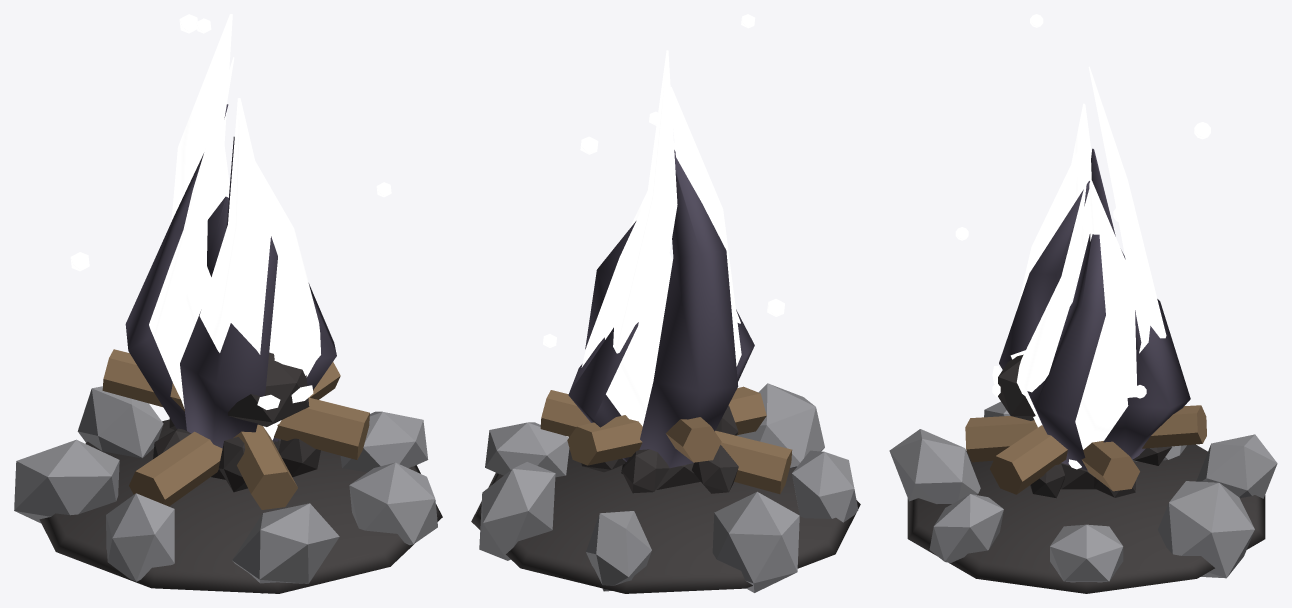
Rendered from ember-camp-fire.glb.
The picture shows the model from 3 angles, left to right: view 1: azimuth 30°, elevation 25°; view 2: azimuth 150°, elevation 25°; view 3: azimuth 270°, elevation 25°; orthographic projection. The views are drawn at different scales.
Parts seen in each view (by area): view 1: ember_camp_fire; view 2: ember_camp_fire; view 3: ember_camp_fire.
Part boxes in pixels (<box>): ember_camp_fire: <box>14,14,442,593</box>; ember_camp_fire: <box>471,14,860,593</box>; ember_camp_fire: <box>889,14,1277,593</box>.
Size of the model in its own units: 0.5519 by 0.7839 by 0.5573.
